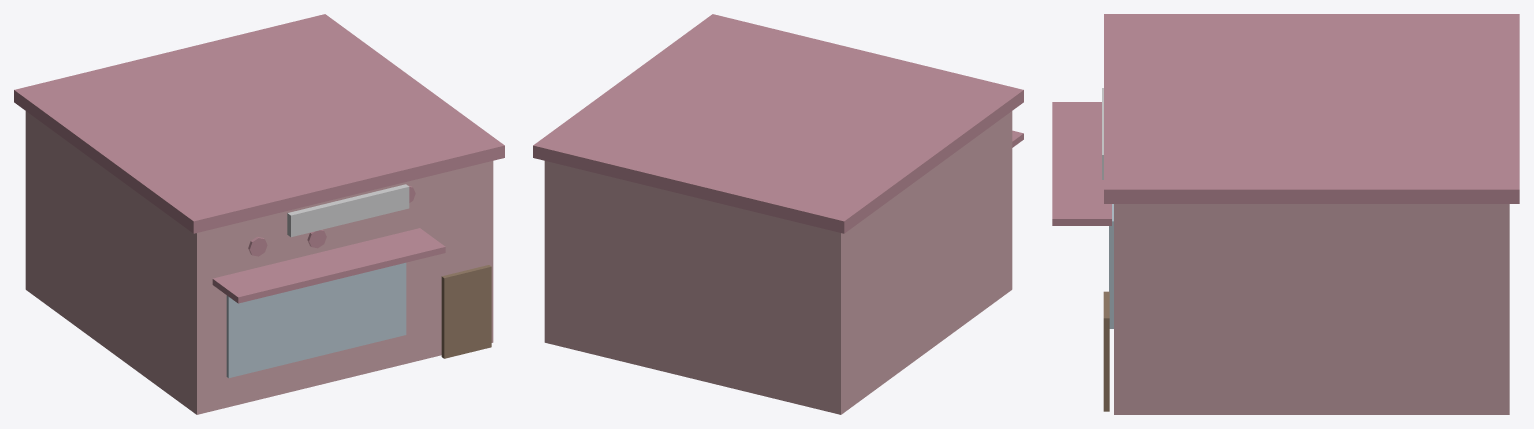
File: building-pet-shop.glb
The picture shows the model from 3 angles, left to right: view 1: azimuth 30°, elevation 25°; view 2: azimuth 150°, elevation 25°; view 3: azimuth 270°, elevation 25°; orthographic projection. The views are drawn at different scales.
Parts seen in each view (by area): view 1: building-pet-shop_part_1, building-pet-shop_part_0, building-pet-shop_part_2, building-pet-shop_part_7, building-pet-shop_part_3, building-pet-shop_part_10; view 2: building-pet-shop_part_0, building-pet-shop_part_1; view 3: building-pet-shop_part_0, building-pet-shop_part_1, building-pet-shop_part_7, building-pet-shop_part_3, building-pet-shop_part_2.
Part boxes in pixels (x1,y1,x2,y2): building-pet-shop_part_1: (14,14,504,233); building-pet-shop_part_0: (25,111,493,414); building-pet-shop_part_2: (226,262,406,378); building-pet-shop_part_7: (212,228,445,303); building-pet-shop_part_3: (441,265,491,358); building-pet-shop_part_10: (287,184,409,237); building-pet-shop_part_0: (544,111,1012,414); building-pet-shop_part_1: (533,14,1023,233); building-pet-shop_part_0: (1114,204,1509,414); building-pet-shop_part_1: (1104,14,1519,203); building-pet-shop_part_7: (1052,102,1111,225); building-pet-shop_part_3: (1103,291,1109,411); building-pet-shop_part_2: (1109,204,1113,328).
Size of the model in its own units: 10.5 by 6.4 by 11.8.
